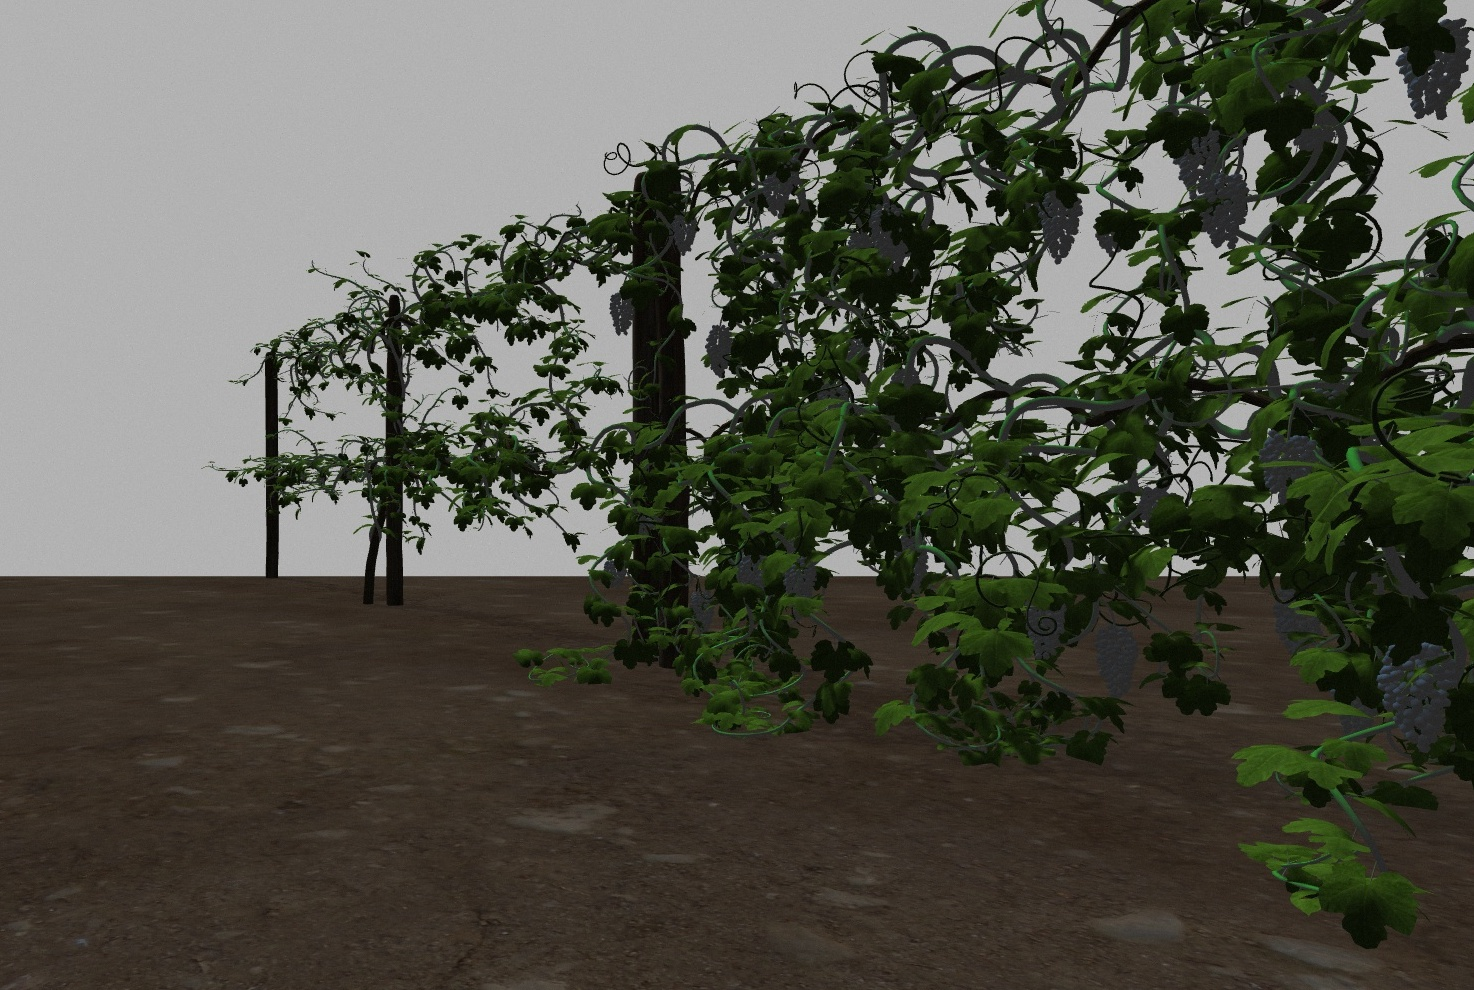grape: (1376, 641, 1459, 754), (1396, 19, 1472, 120), (1197, 173, 1251, 249), (1036, 189, 1085, 263), (1259, 431, 1317, 492), (1093, 625, 1139, 694), (1271, 591, 1319, 653), (1177, 129, 1223, 191), (1025, 600, 1066, 662), (870, 206, 905, 270), (704, 325, 731, 379), (782, 561, 817, 597), (762, 172, 791, 214), (608, 291, 633, 336), (672, 212, 697, 255), (689, 591, 713, 632), (601, 561, 627, 587)
